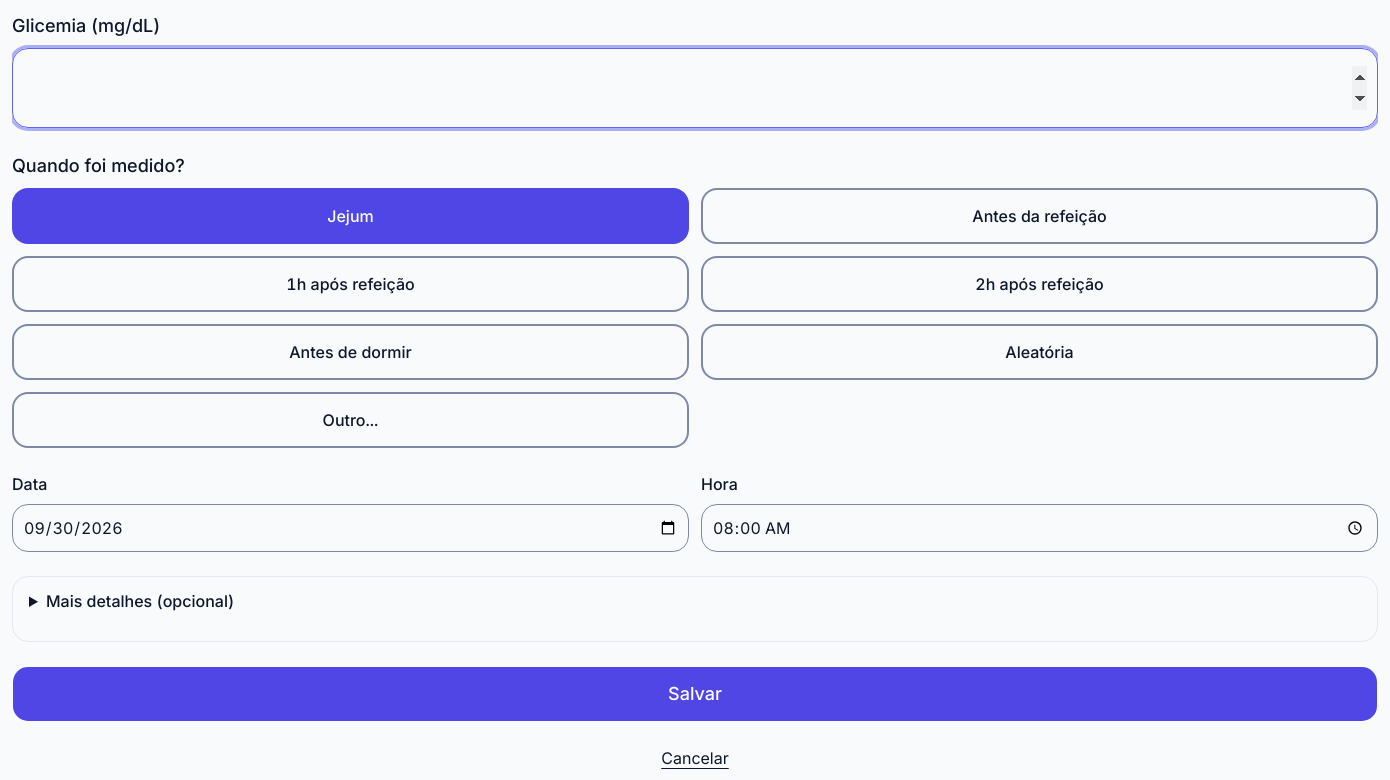
Scenario: aviso de medição fora da faixa › não mostra aviso quando a ação não sinaliza fora da faixa
Type "150" into the number field labelled "Glicemia (mg/dL)" at (695, 88), box [12,48,1378,128]
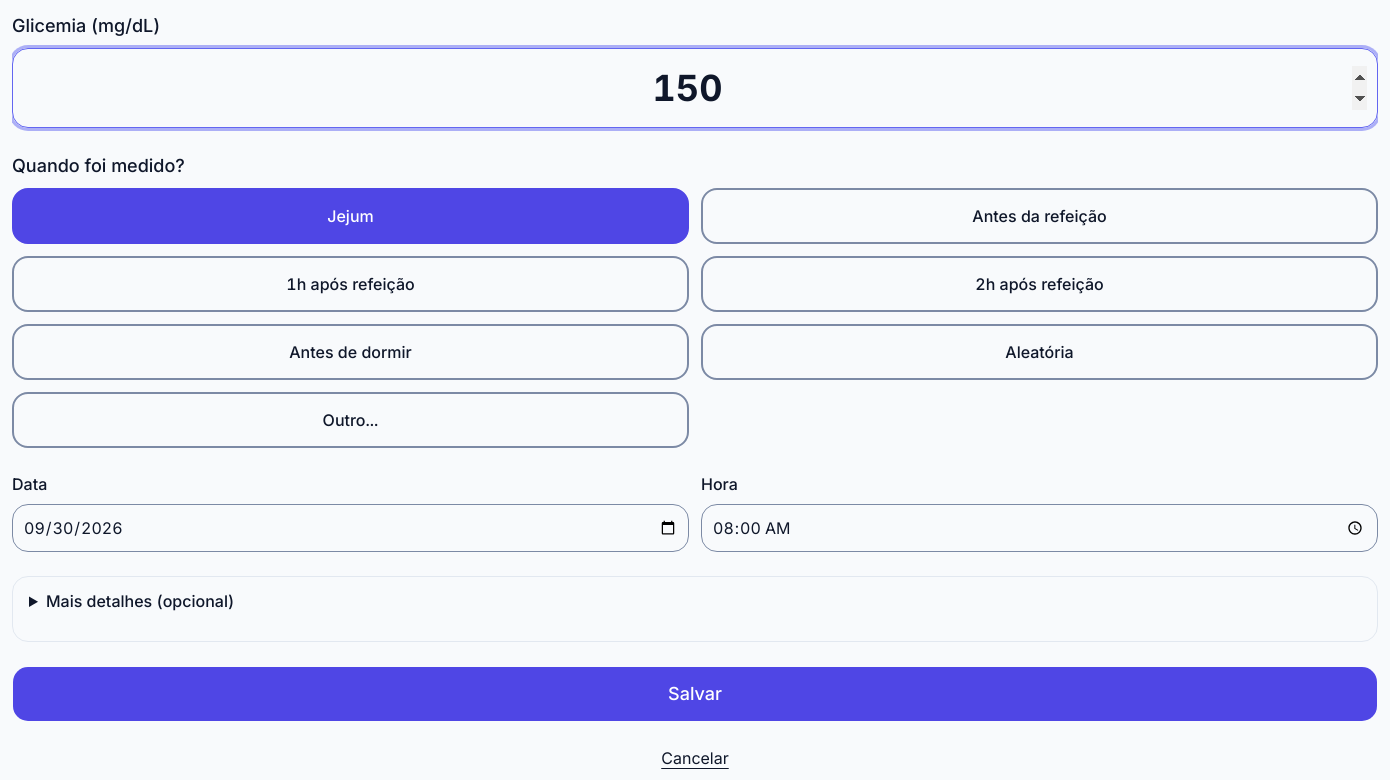
Click the button "Salvar" at (695, 694), box [12,666,1378,722]
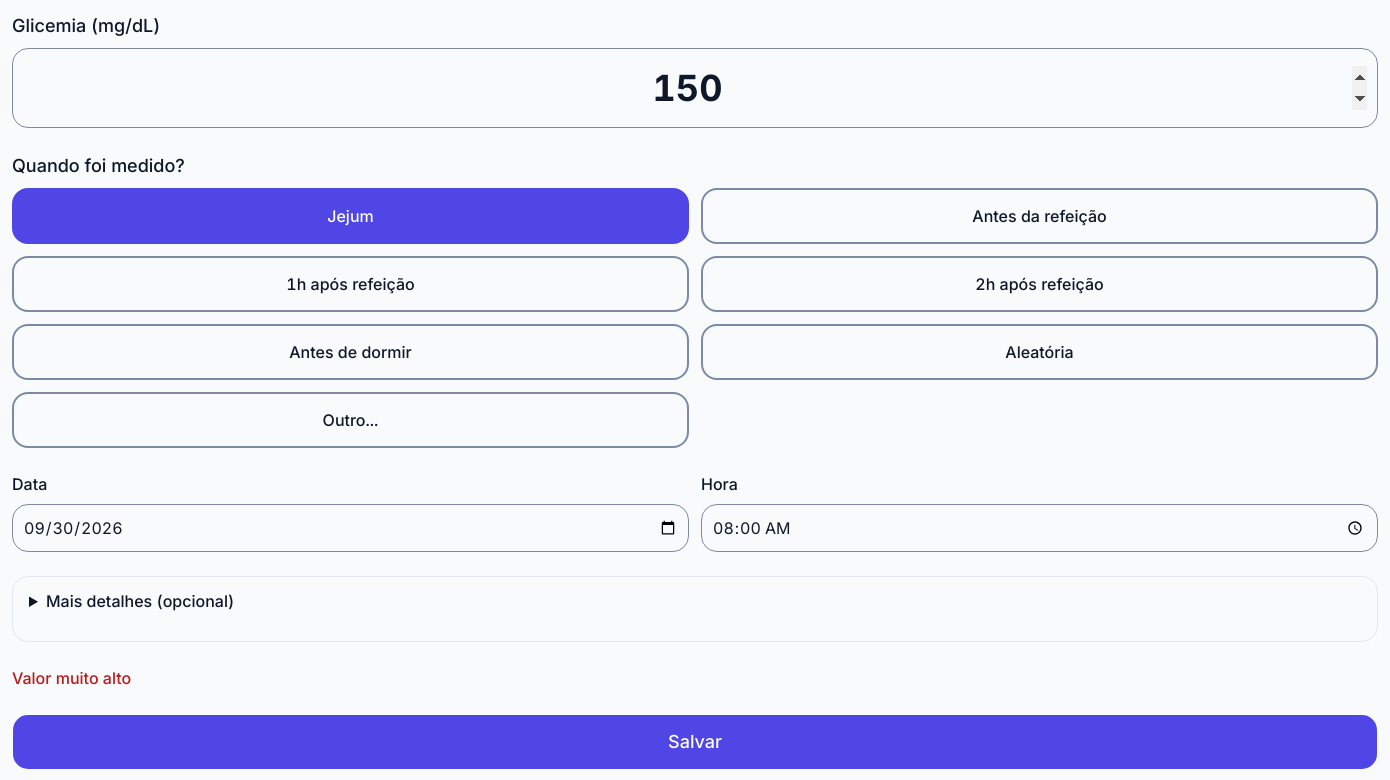
Now the message "Valor muito alto" is shown, box [12,668,131,688]
